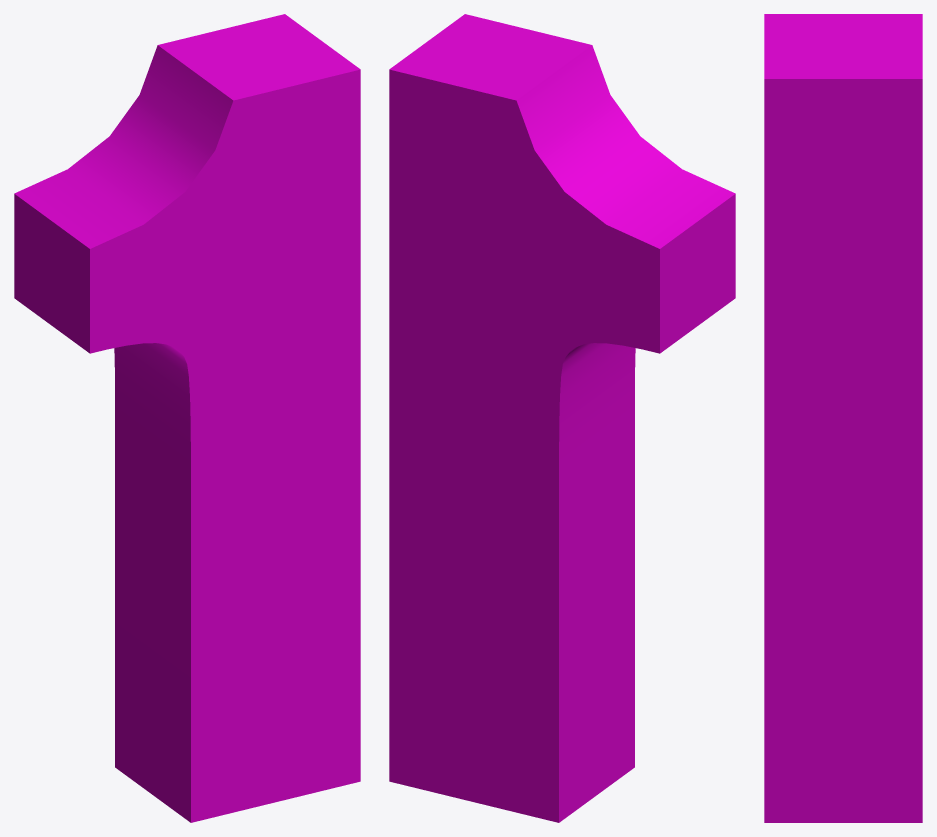
File: one.fbx
3 renders of one model, left to right at view 1: azimuth 30°, elevation 25°; view 2: azimuth 150°, elevation 25°; view 3: azimuth 270°, elevation 25°, orthographic. The views are drawn at different scales.
Parts seen in each view (by area): view 1: typeMesh1; view 2: typeMesh1; view 3: typeMesh1.
Part boxes in pixels (x1=…): typeMesh1: x1=14, y1=14, x2=360, y2=822; typeMesh1: x1=389, y1=14, x2=735, y2=822; typeMesh1: x1=764, y1=14, x2=922, y2=822.
Size of the model in its own units: 25.77 by 64.75 by 12.5.
